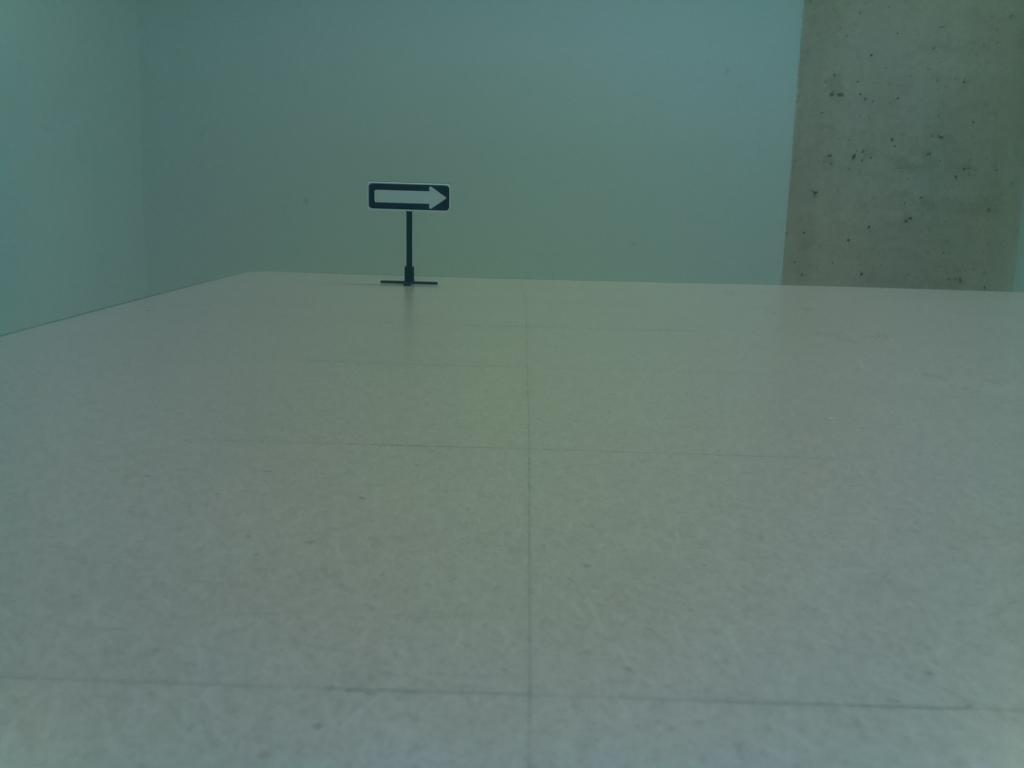sign_oneway_right: (365, 177, 459, 219)
